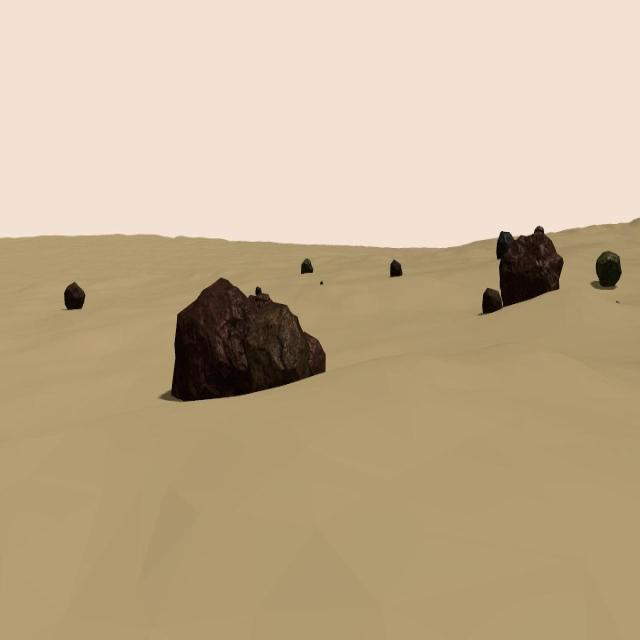rock: (171, 276, 258, 401), (245, 301, 307, 389), (498, 236, 564, 307), (301, 332, 326, 377), (595, 250, 622, 286), (64, 281, 86, 310), (496, 230, 515, 261), (482, 286, 502, 313), (248, 294, 272, 313), (390, 259, 402, 277), (302, 257, 312, 275), (532, 225, 544, 236), (256, 287, 262, 296), (615, 298, 619, 305), (320, 279, 324, 285)
